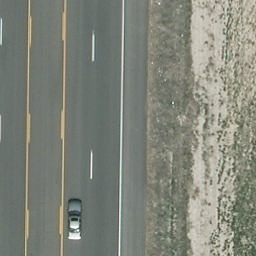car: (68, 200, 82, 243)
